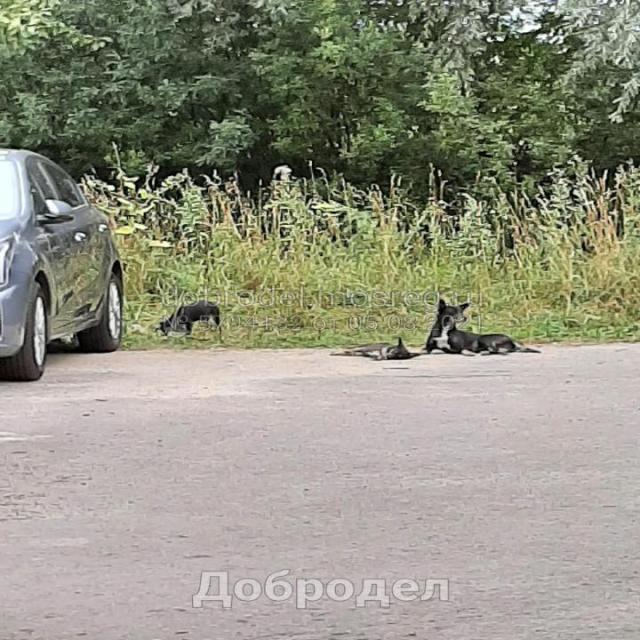dog: (423, 300, 542, 358), (154, 300, 226, 349), (328, 338, 421, 364)
